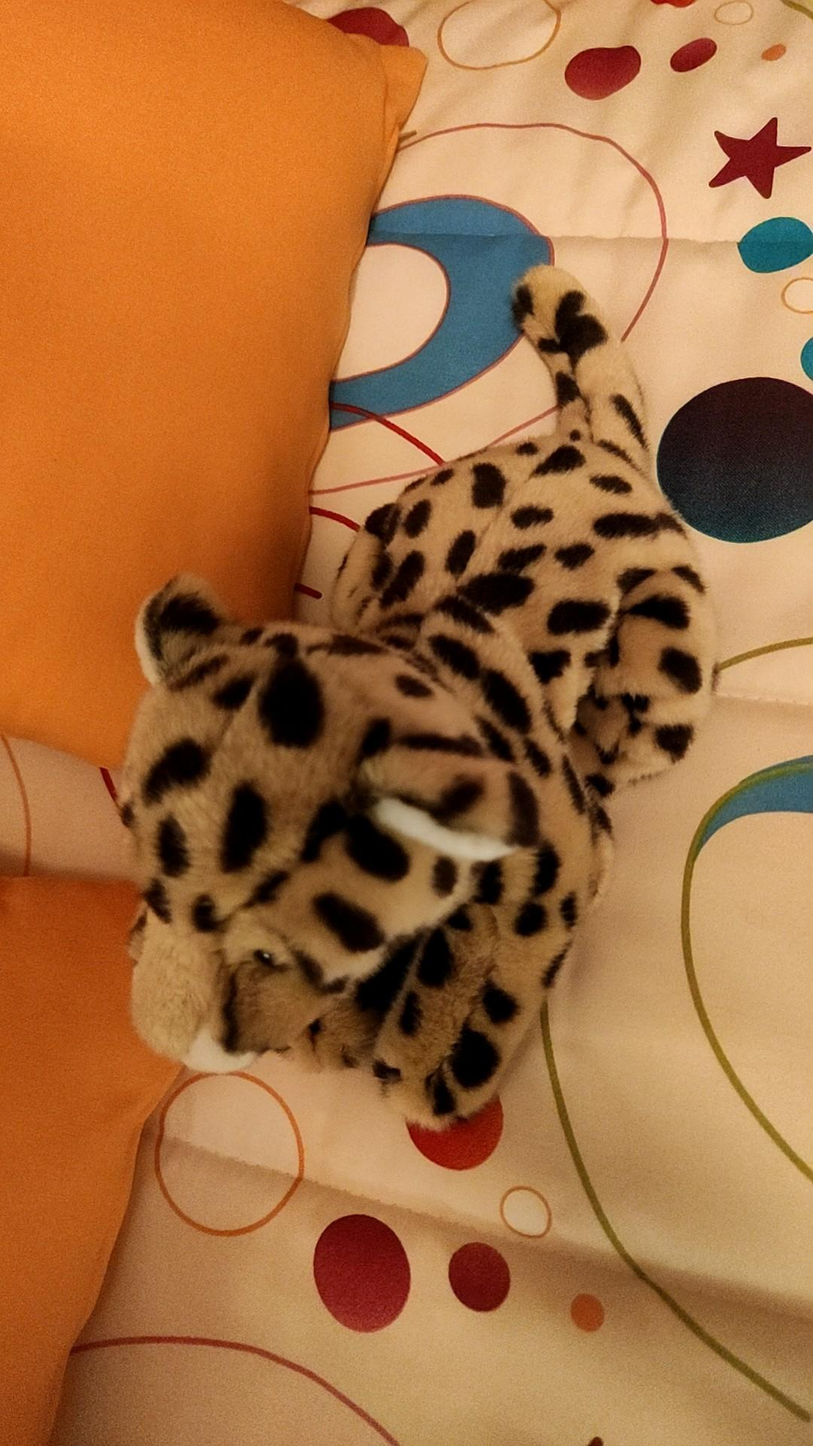toy: (121, 264, 717, 1130)
